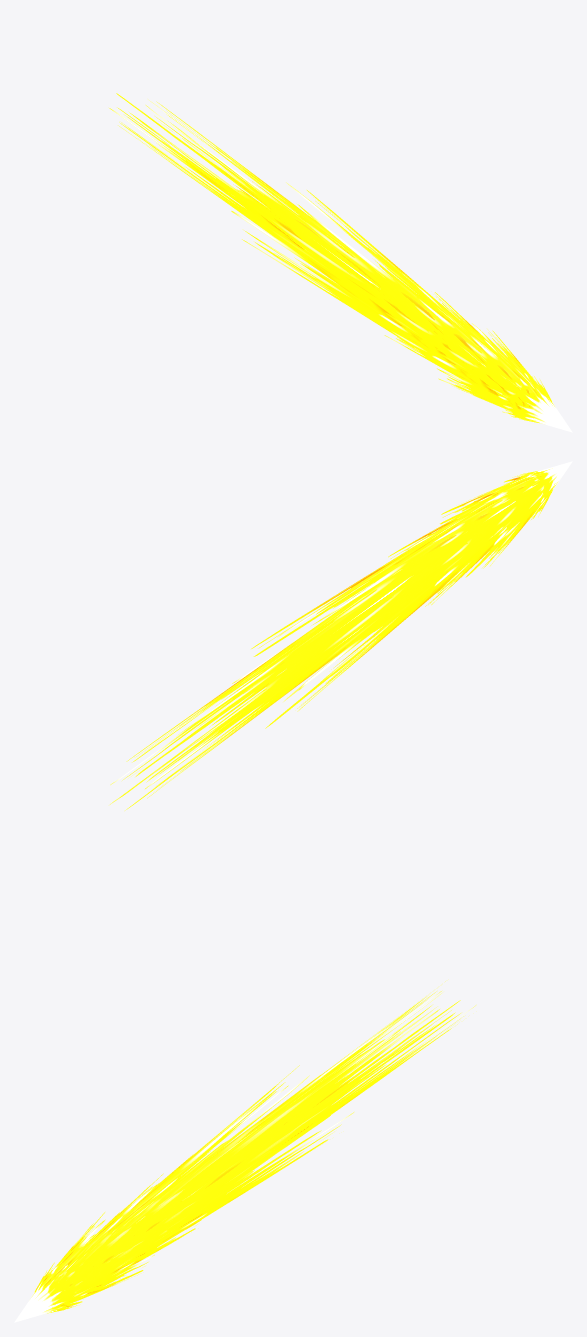
3 renders of one model, top to bottom at view 1: azimuth 30°, elevation 25°; view 2: azimuth 150°, elevation 25°; view 3: azimuth 330°, elevation 25°, orthographic.
Parts seen in each view (by area): view 1: Object_35, Object_27; view 2: Object_35, Object_27; view 3: Object_35, Object_27.
Boxes of the visible parts, x1=… form: Object_35: x1=109, y1=93, x2=572, y2=432; Object_27: x1=377, y1=285, x2=552, y2=423; Object_35: x1=110, y1=461, x2=572, y2=810; Object_27: x1=388, y1=470, x2=554, y2=606; Object_35: x1=14, y1=981, x2=475, y2=1322; Object_27: x1=34, y1=1173, x2=208, y2=1313.
Bounding box in the file's own units: 0.1601 × 0.1631 × 1.73.
Materials: 1 (1 with a texture image).
